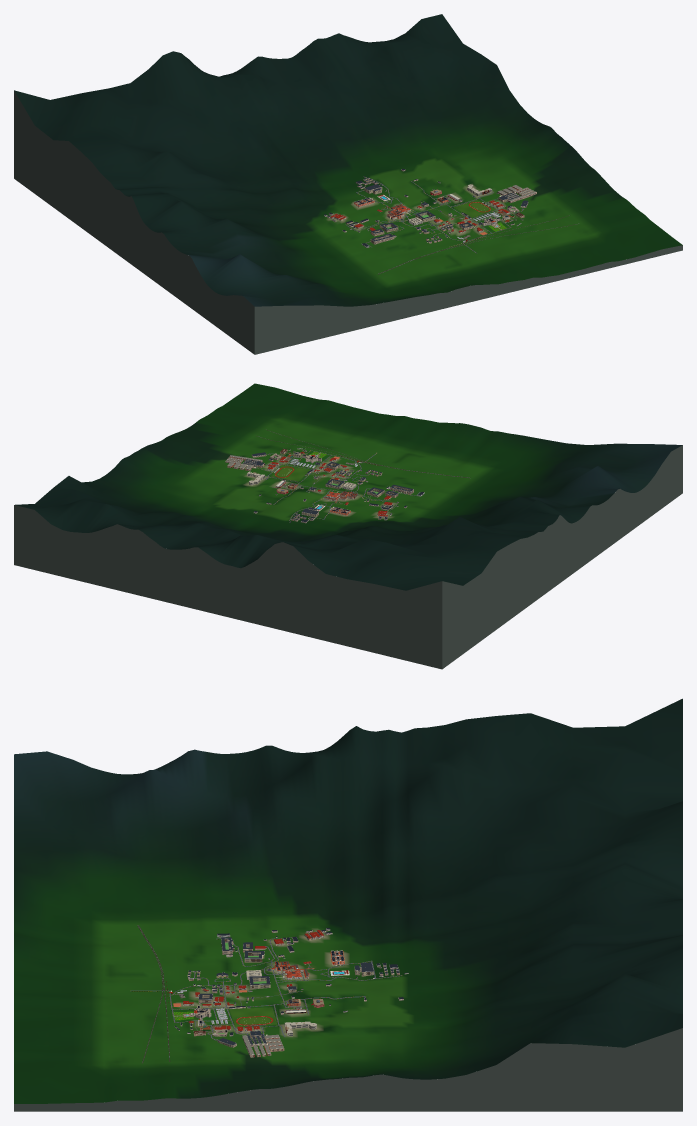
File: campus.glb
The picture shows the model from 3 angles, top to bottom: view 1: azimuth 30°, elevation 25°; view 2: azimuth 150°, elevation 25°; view 3: azimuth 270°, elevation 25°; orthographic projection. The views are drawn at different scales.
Parts seen in each view (by area): view 1: TERRAIN_Campus, STATIC_Buildings, ROADS_Network; view 2: TERRAIN_Campus, STATIC_Buildings, ROADS_Network; view 3: TERRAIN_Campus, ROADS_Network, STATIC_Buildings, GROUND_MainSports.
Part boxes in pixels (left/top/right/bottom): TERRAIN_Campus: left=14, top=14, right=682, bottom=354; STATIC_Buildings: left=324, top=168, right=522, bottom=243; ROADS_Network: left=345, top=178, right=523, bottom=247; TERRAIN_Campus: left=14, top=383, right=682, bottom=669; STATIC_Buildings: left=249, top=448, right=407, bottom=523; ROADS_Network: left=256, top=450, right=420, bottom=520; TERRAIN_Campus: left=14, top=698, right=682, bottom=1111; ROADS_Network: left=163, top=937, right=402, bottom=1040; STATIC_Buildings: left=174, top=928, right=408, bottom=1037; GROUND_MainSports: left=229, top=1007, right=277, bottom=1027.
Bounding box in the file's own units: 3200 × 633 × 3117.
